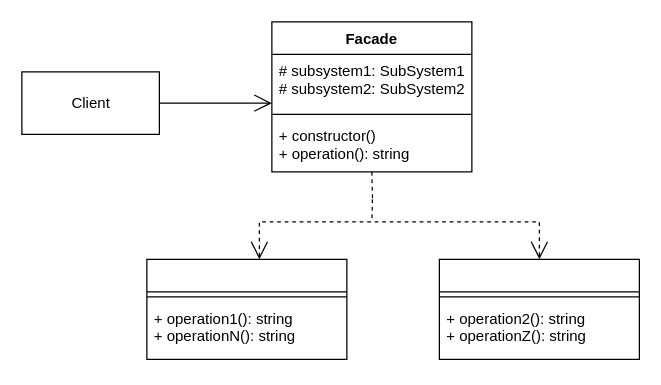
This 661x385 diagram has some shape labels left out. The shapes that lost their labels are listed below. From the top down, each one's box as (x1, y1, x2, y2) in pixels, then its label:
(146, 258, 347, 359): SubSystem1
(438, 258, 639, 359): SubSystem2
